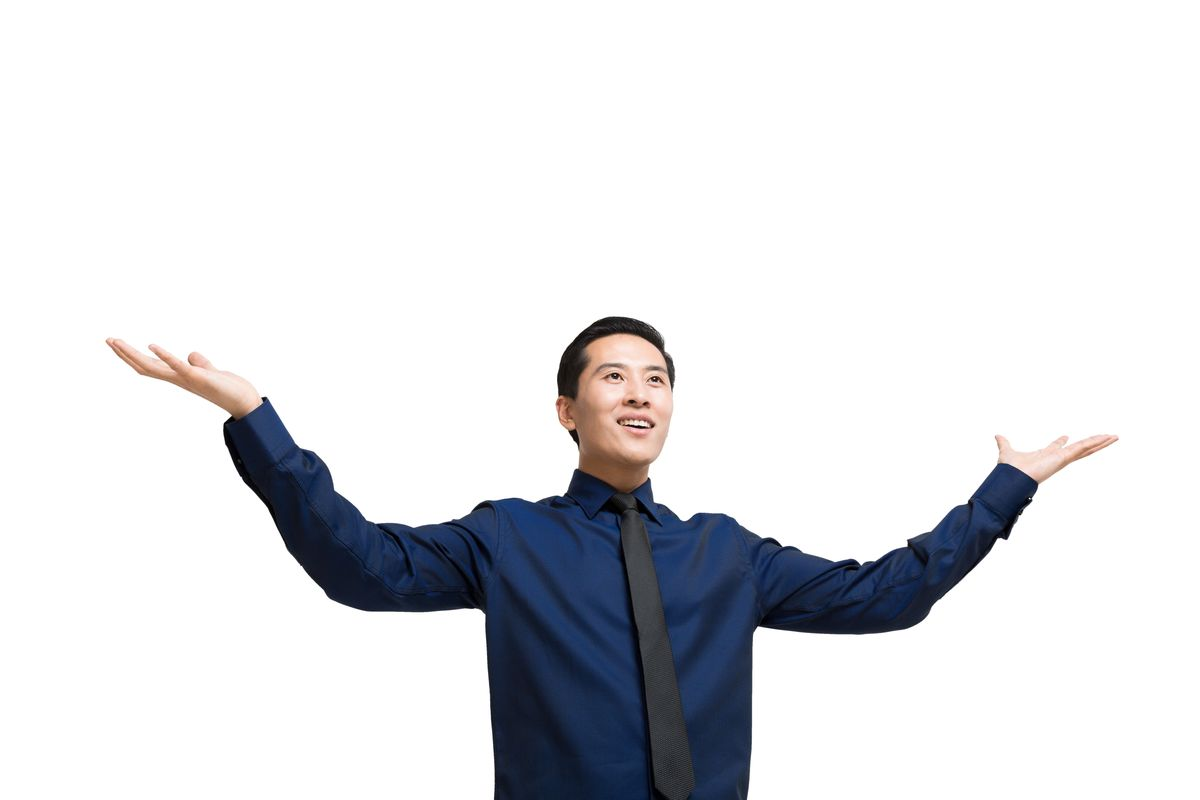handsup: (98, 299, 1139, 800)
